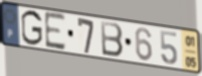5: (159, 29, 179, 67)
6: (133, 26, 153, 62)
7: (77, 16, 95, 56)
B: (99, 19, 125, 59)
E: (43, 10, 67, 52)
G: (20, 9, 44, 48)
